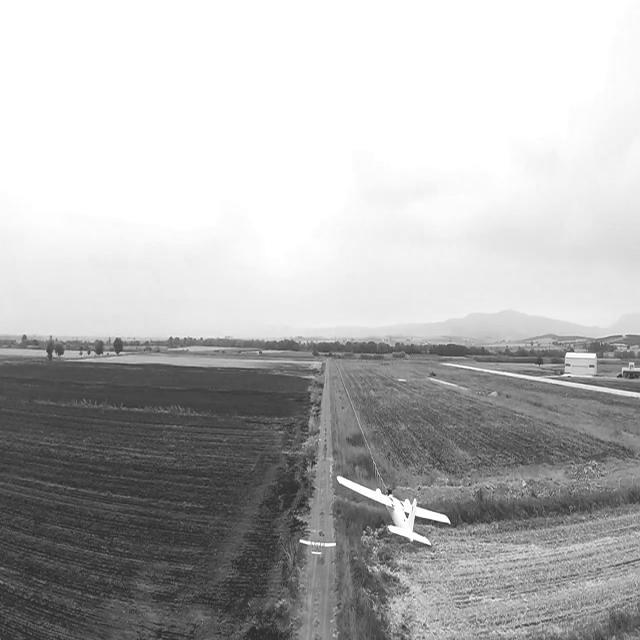iha: (299, 533, 338, 562), (360, 507, 416, 513)
